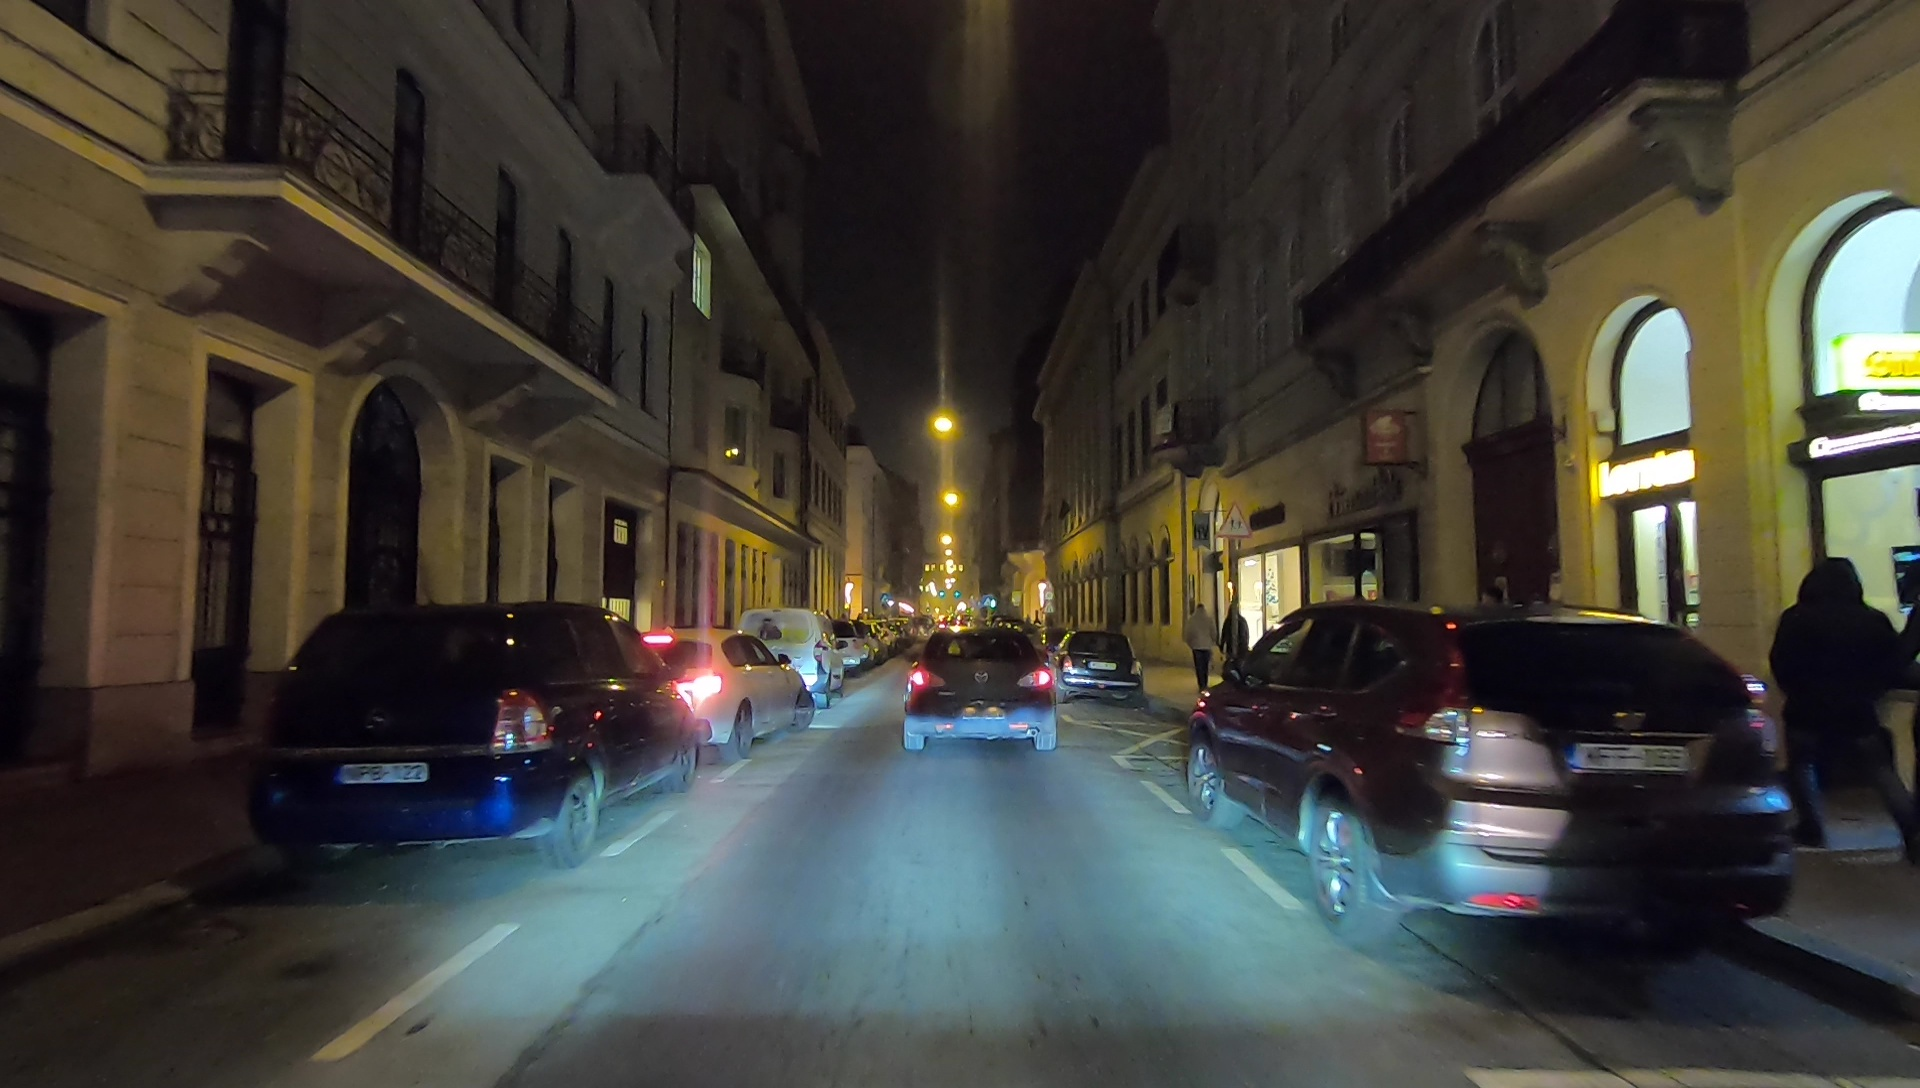person: (1765, 552, 1910, 869), (1180, 600, 1217, 695), (1219, 606, 1247, 674)
